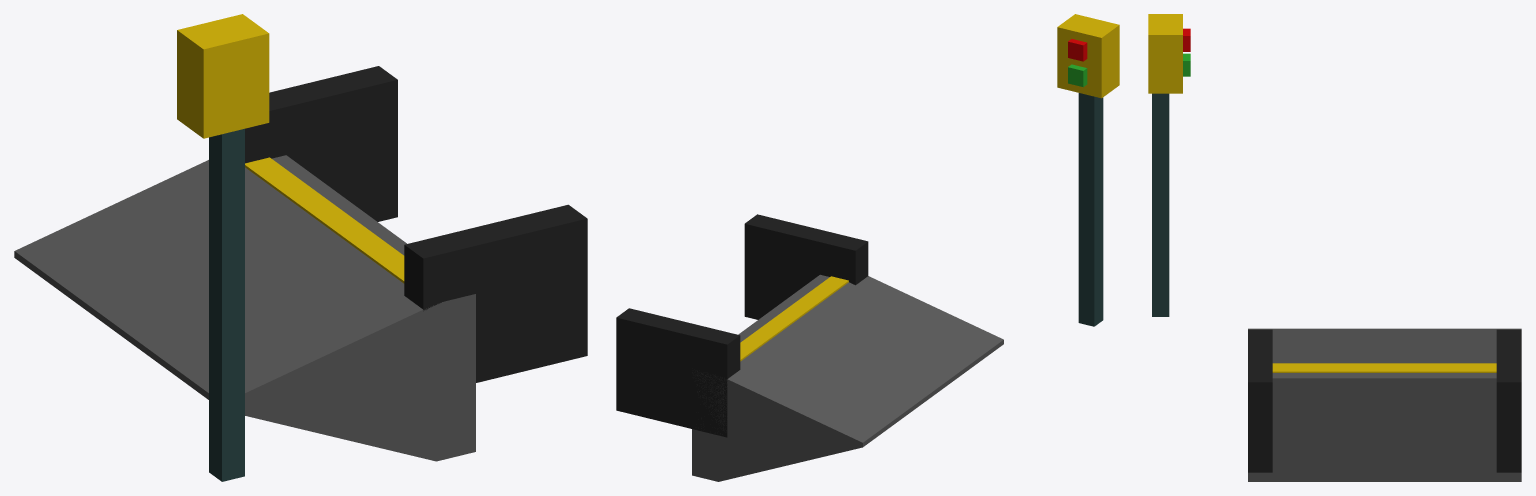
Rendered from magic_carpet_top.obj.
The picture shows the model from 3 angles, left to right: view 1: azimuth 30°, elevation 25°; view 2: azimuth 150°, elevation 25°; view 3: azimuth 270°, elevation 25°; orthographic projection. The views are drawn at different scales.
Bounding box in the file's own units: 1.4 × 1.58 × 1.5.
